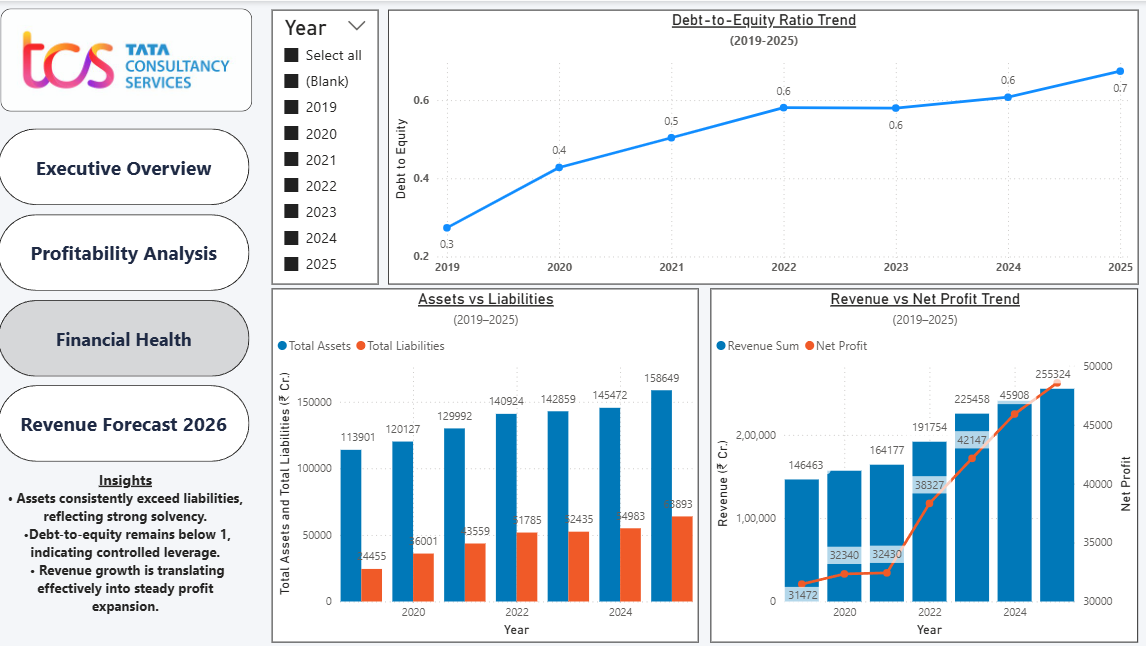

The page's visual inventory and layout, read from the dashboard file:
{"tool":"powerbi","page":{"name":"Financial Health","canvas":[1280,720],"ordinal":2},"visuals":[{"type":"clusteredColumnChart","title":"Assets vs Liabilities","fields":{"Y":["Annual.Total Assets","Sum(Master_Sheet.Correct Liabilities)"],"Category":["Sheet1.Year"]},"box":[303.3,318.4,473.4,392.5],"z":0},{"type":"lineChart","title":"Debt-to-Equity Ratio Trend","fields":{"Y":["Annual.Debt to Equity"],"Category":["Sheet1.Year"]},"box":[432.2,9.6,832.9,304.6],"z":1000},{"type":"lineClusteredColumnComboChart","title":"Revenue vs Net Profit Trend","fields":{"Category":["Sheet1.Year"],"Y":["Annual.Revenue"],"Y2":["Annual.Net Profit"]},"box":[790.4,318.4,474.8,392.5],"z":2000},{"type":"slicer","fields":{"Values":["Master_Sheet.Year"]},"box":[303.3,9.6,118,304.6],"z":3000},{"type":"textbox","box":[0,514.6,282.7,196.2],"z":4000},{"type":"image","box":[2.9,8.6,279.4,114],"z":5000},{"type":"pageNavigator","box":[0,141.1,279.4,373.5],"z":6000}]}

Visuals, with their boxes in screenshot pixels (x1, y1, x2, y2), scaled from the page's 1280x720 canvas onto the 1146x646 screenshot:
"Assets vs Liabilities" clusteredColumnChart: left=272, top=286, right=695, bottom=638
"Debt-to-Equity Ratio Trend" lineChart: left=387, top=9, right=1133, bottom=282
"Revenue vs Net Profit Trend" lineClusteredColumnComboChart: left=708, top=286, right=1133, bottom=638
slicer - Master_Sheet.Year: left=272, top=9, right=377, bottom=282
textbox: left=0, top=462, right=253, bottom=638
image: left=3, top=8, right=253, bottom=110
pageNavigator: left=0, top=127, right=250, bottom=462
